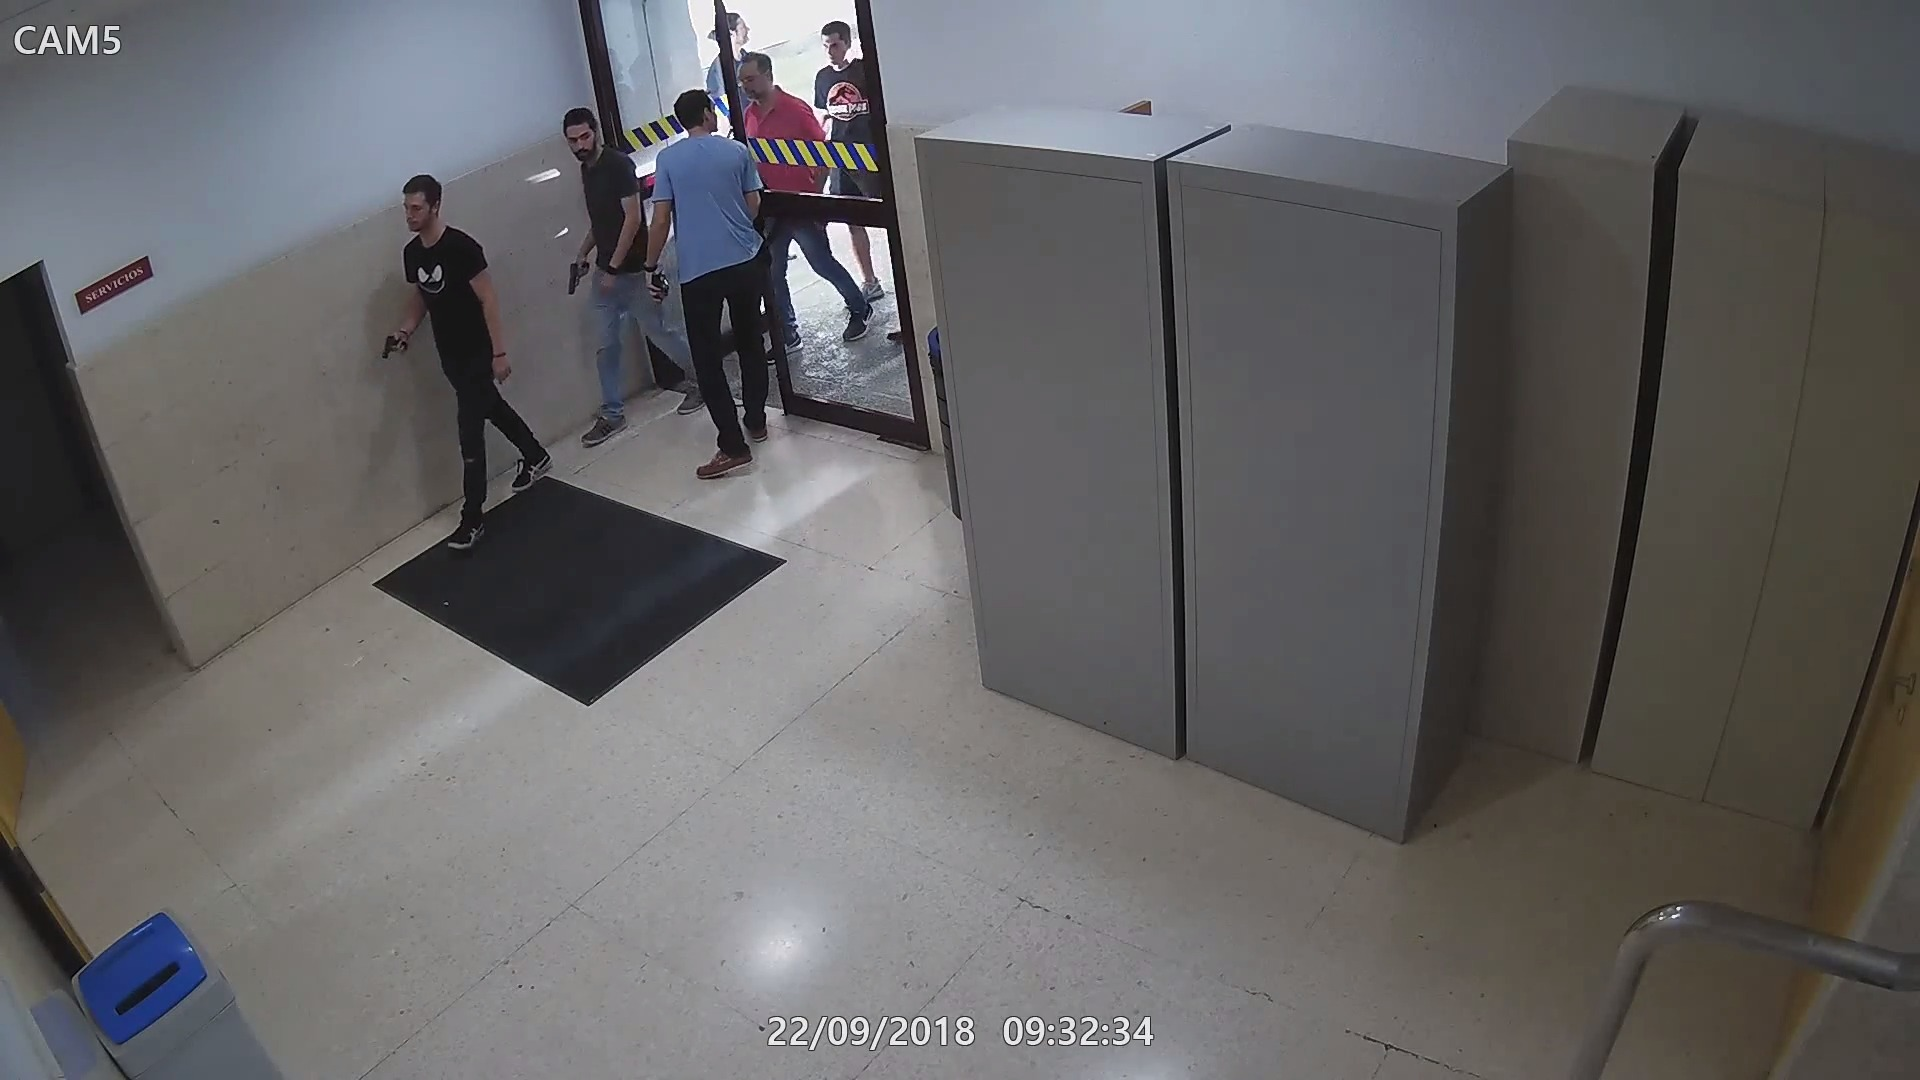Handgun: (375, 330, 411, 364), (642, 264, 674, 301), (564, 260, 591, 294)
Knife: (647, 265, 673, 328)
